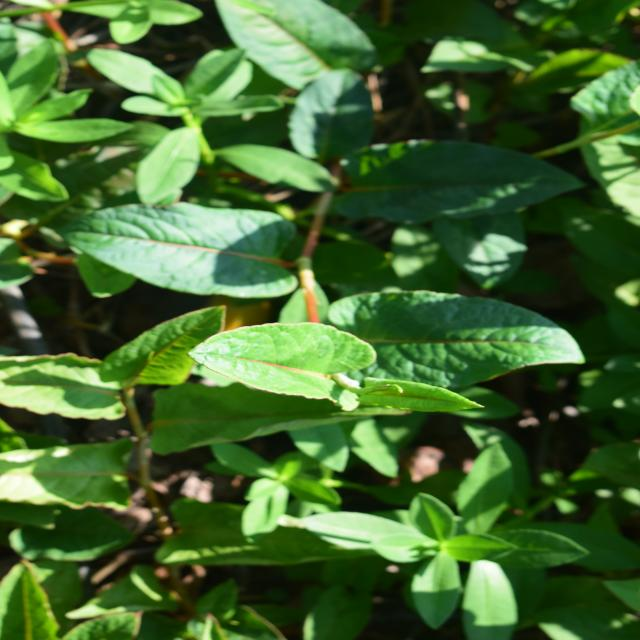Chinese_knotweed: (154, 39, 405, 515)
